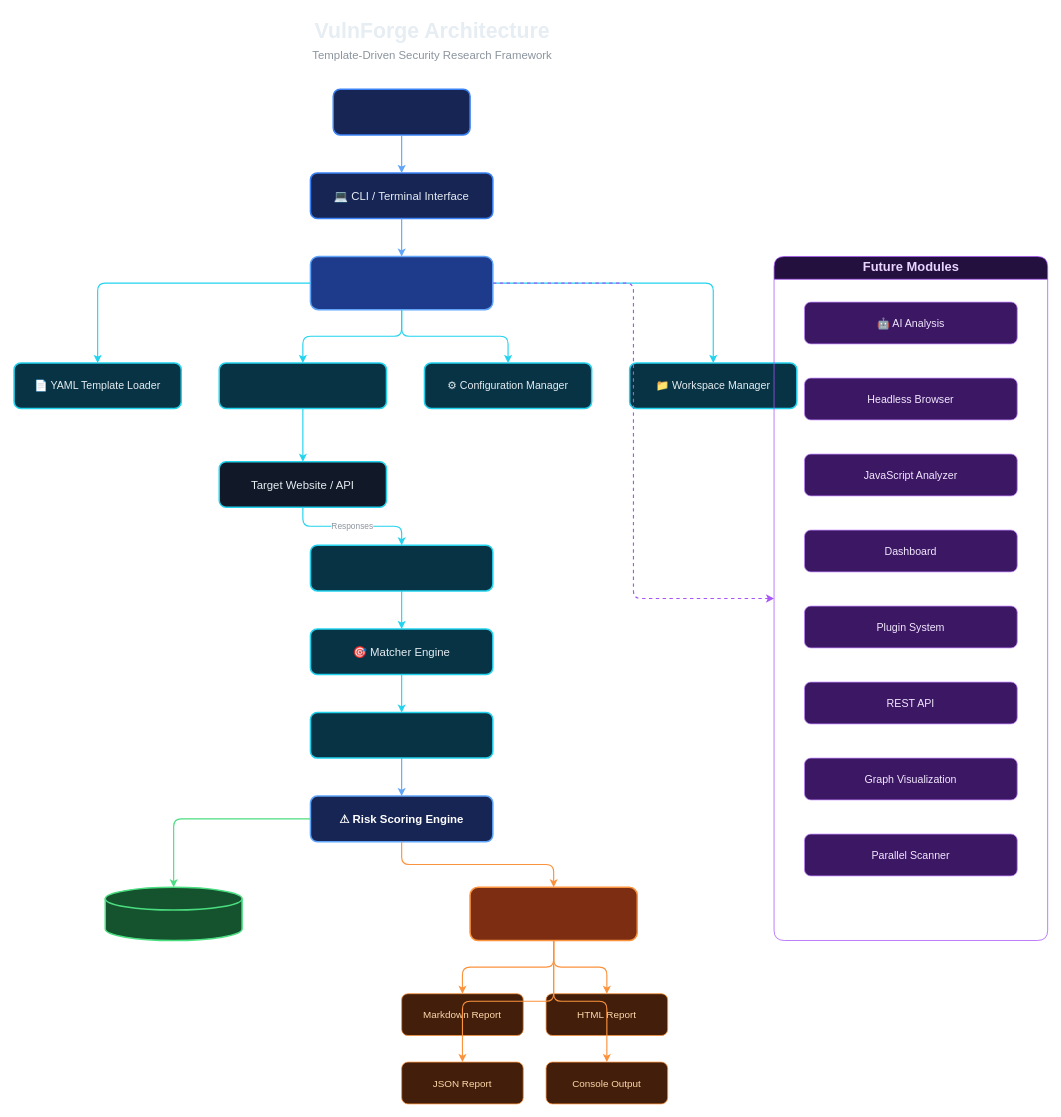
Image size: 1061x1117. Some labels were removed from this diagram. Here are the shapes that lost their labels. From the top down, the centre of each, then its label:
[401,111]: 👤 User
[401,282]: ⚙ Scan Engine Core Controller
[302,385]: 🌐 HTTP Client
[401,567]: 🔍 Extractor
[401,734]: 🔗 Correlation Engine
[173,913]: 🗄 SQLite Database
[553,913]: 📊 Report Generator
